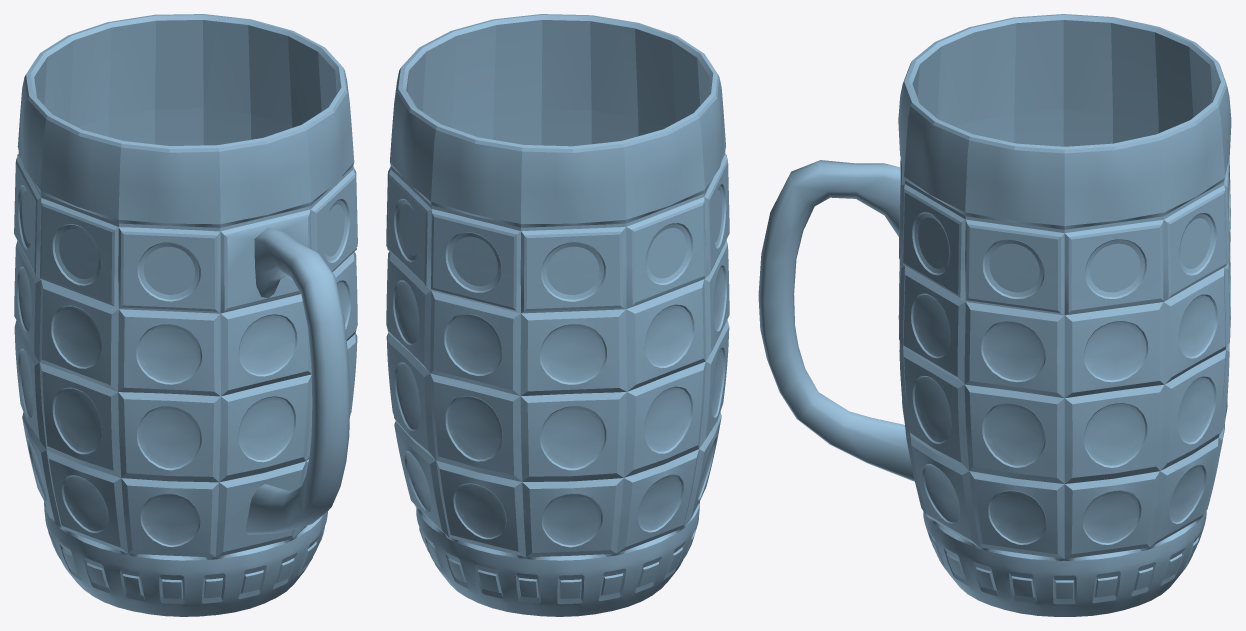
Rendered from beer_glass_HI.FBX.
3 views of the same model, side by side, from view 1: azimuth 30°, elevation 25°; view 2: azimuth 150°, elevation 25°; view 3: azimuth 270°, elevation 25° (orthographic).
Parts seen in each view (by area): view 1: beer_hi_; view 2: beer_hi_; view 3: beer_hi_.
Boxes of the visible parts, x1,y1,x2,y2 form: beer_hi_: (14, 14, 357, 616); beer_hi_: (386, 14, 729, 616); beer_hi_: (758, 14, 1231, 616).
Size of the model in its own units: 94.95 by 149 by 131.
